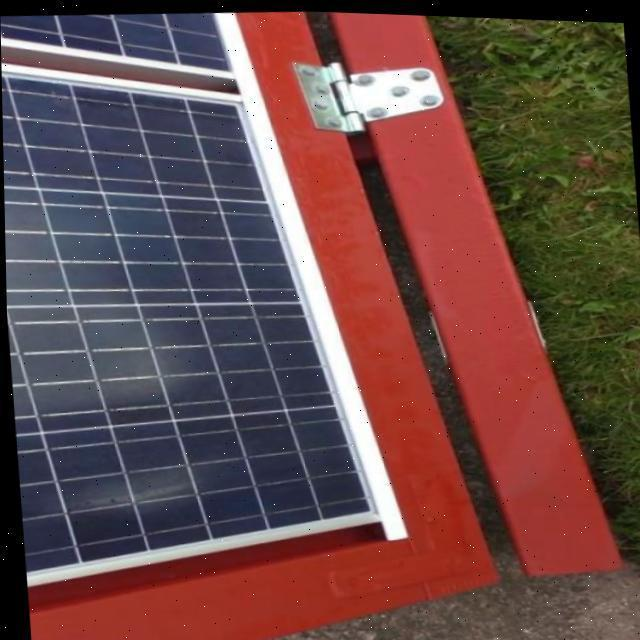Normal Solar Panel: (0, 0, 398, 598)
